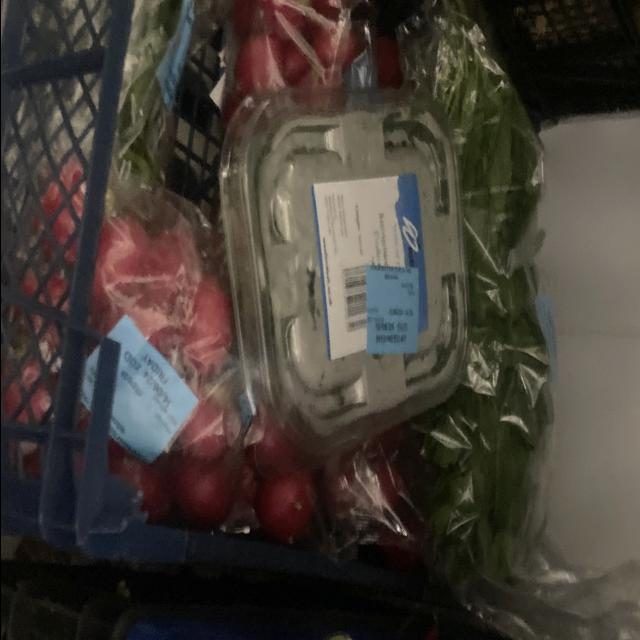product-labels: (56, 317, 206, 471), (365, 262, 418, 355)
